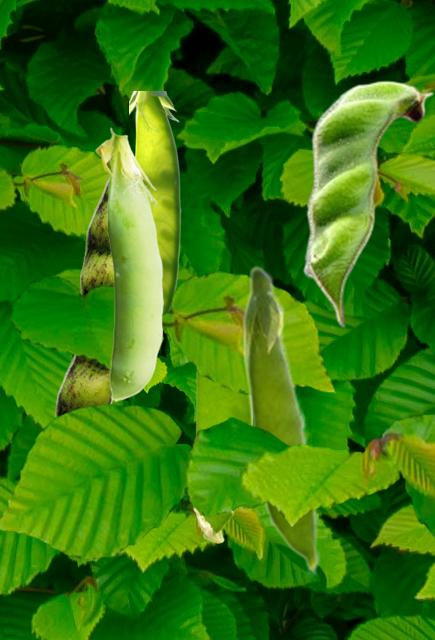pea: (302, 80, 433, 327), (241, 264, 320, 575), (95, 127, 162, 400), (129, 91, 180, 313), (193, 372, 250, 542), (80, 178, 112, 294), (53, 356, 114, 415)
